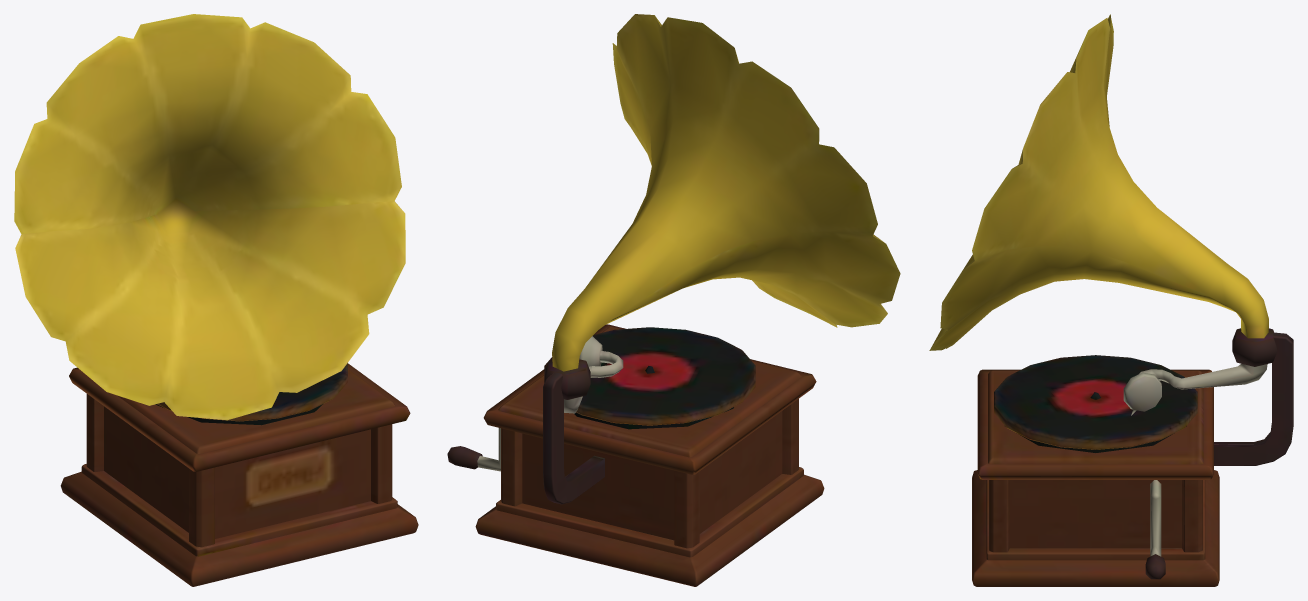
3 views of the same model, side by side, from view 1: azimuth 30°, elevation 25°; view 2: azimuth 150°, elevation 25°; view 3: azimuth 270°, elevation 25° (orthographic). The views are drawn at different scales.
Size of the model in its own units: 8.35 by 9.98 by 6.82.
1 material, 1 textured.
